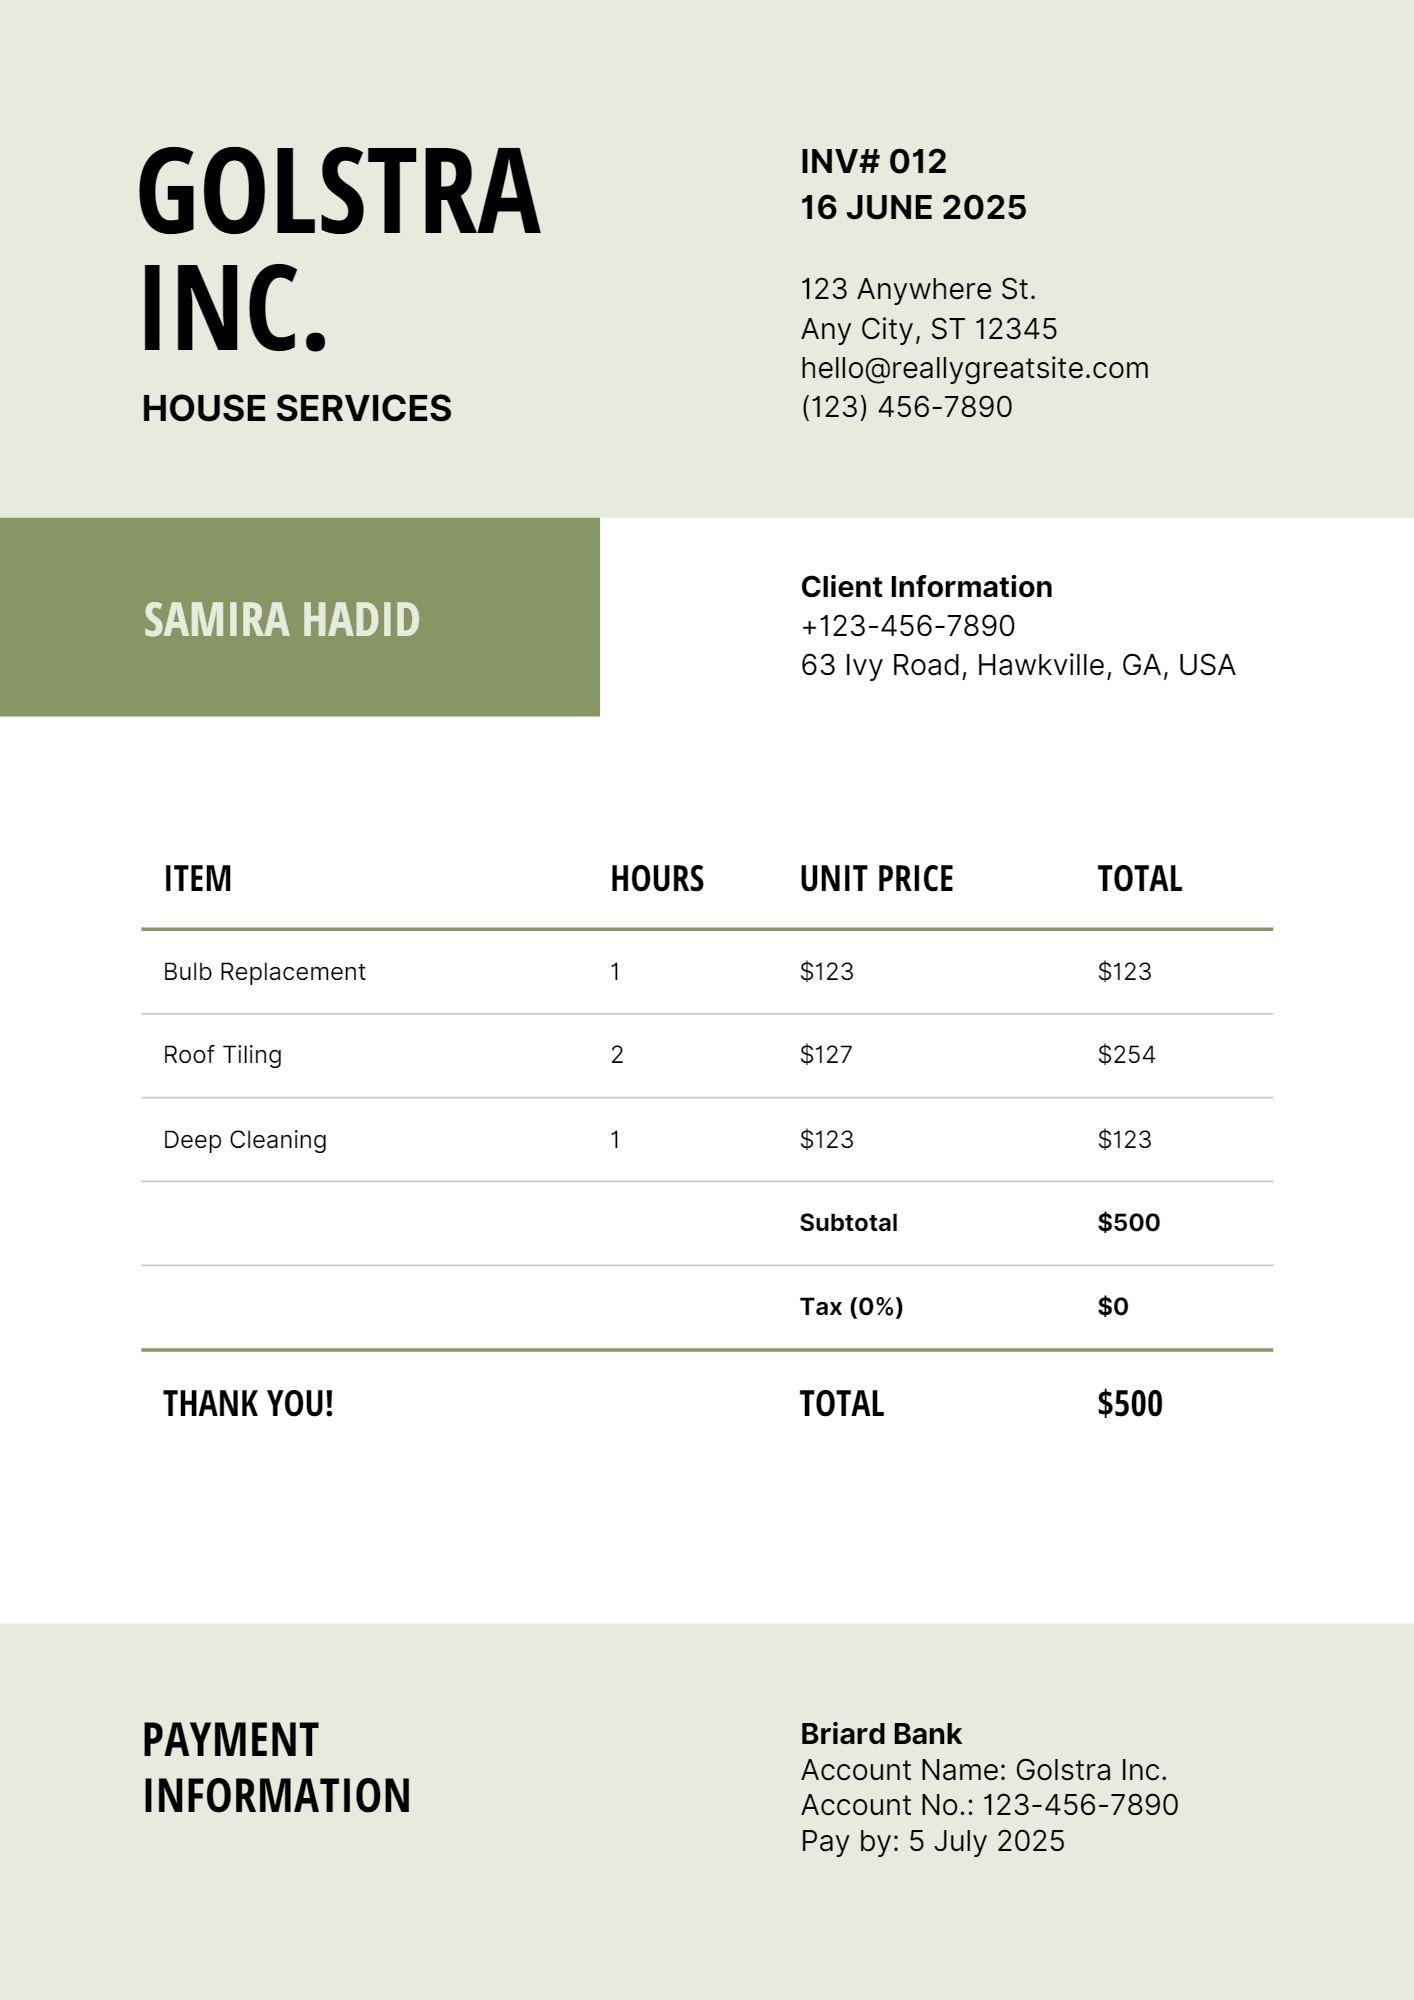ROI: (142, 839, 1266, 1360)
